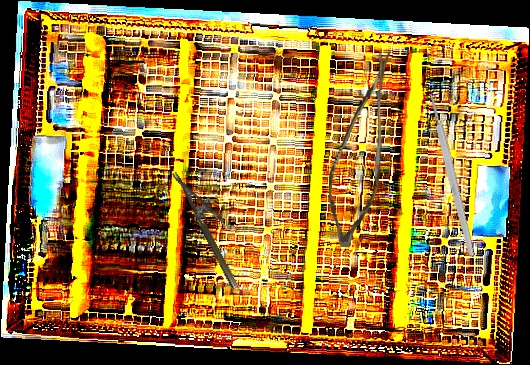Micro Scissor: (327, 47, 391, 248)
Needle Holder: (171, 161, 255, 291)
Scalpel Handle: (427, 94, 477, 259)
